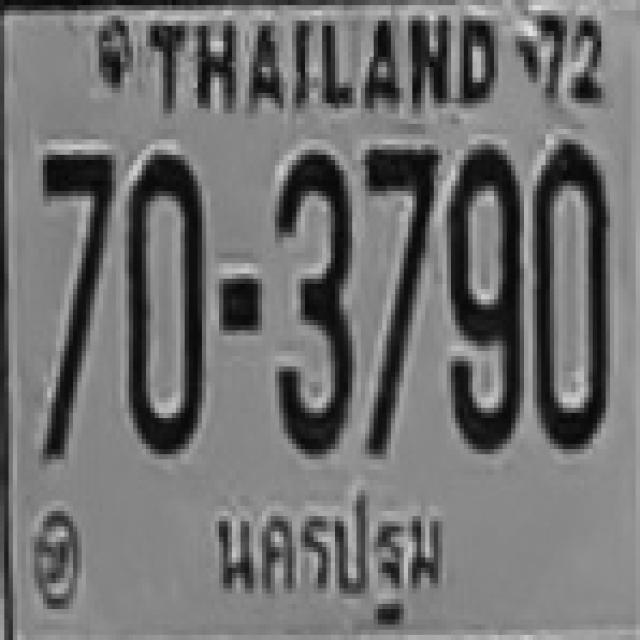0: (124, 150, 202, 449), (446, 140, 520, 330)
3: (273, 147, 350, 452), (273, 186, 350, 449)
7: (38, 150, 112, 320), (363, 144, 436, 304)
9: (446, 209, 520, 446)
NakhonPathom: (197, 474, 465, 640)
